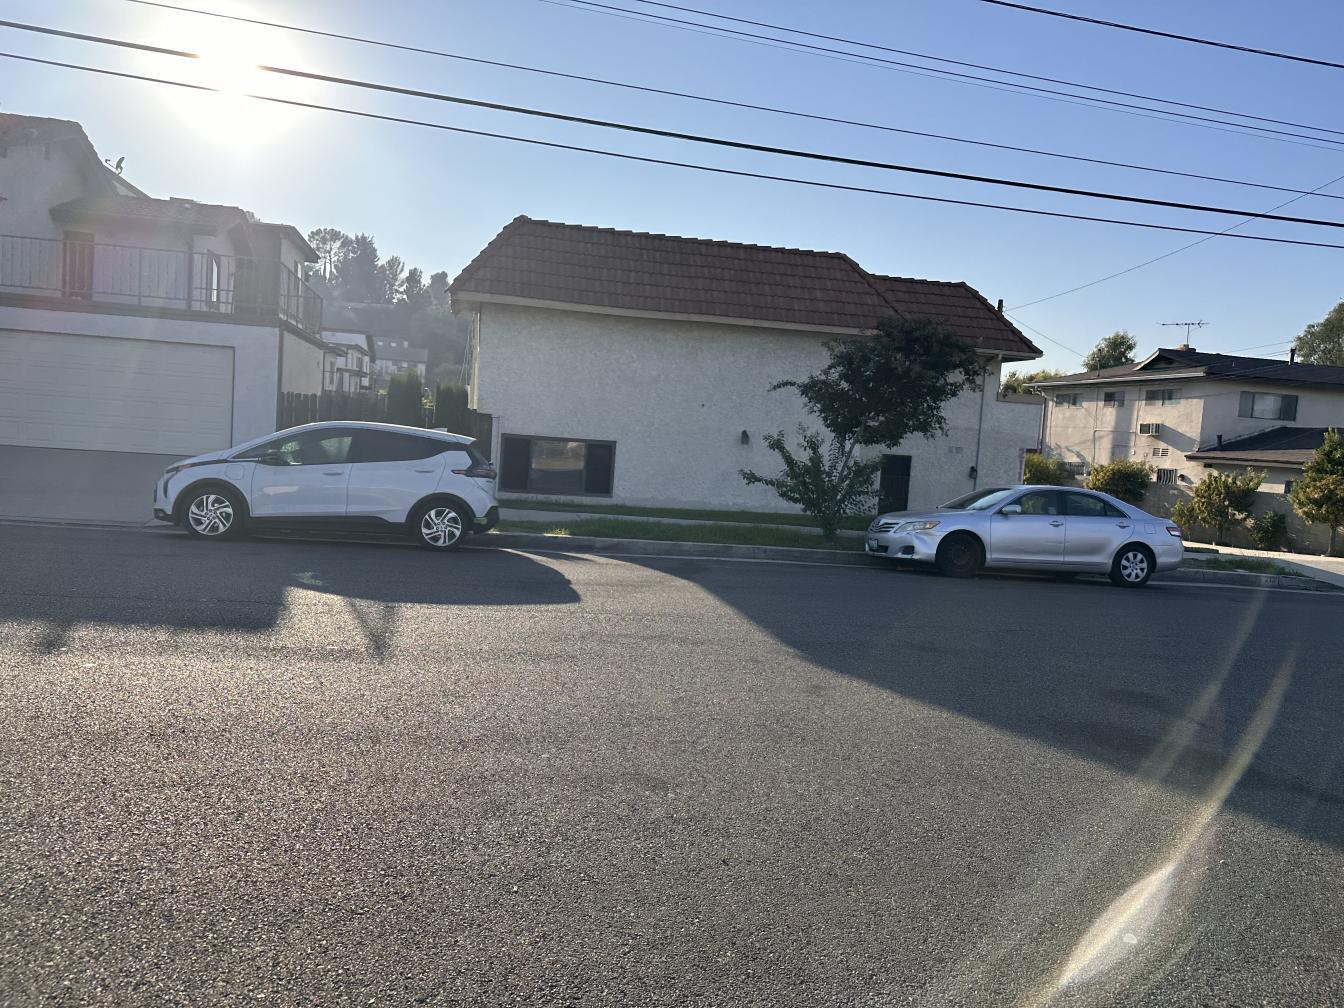curbs-laRr: (1185, 565, 1315, 594), (599, 536, 713, 560), (493, 530, 597, 555), (718, 542, 806, 563), (810, 548, 865, 568)
